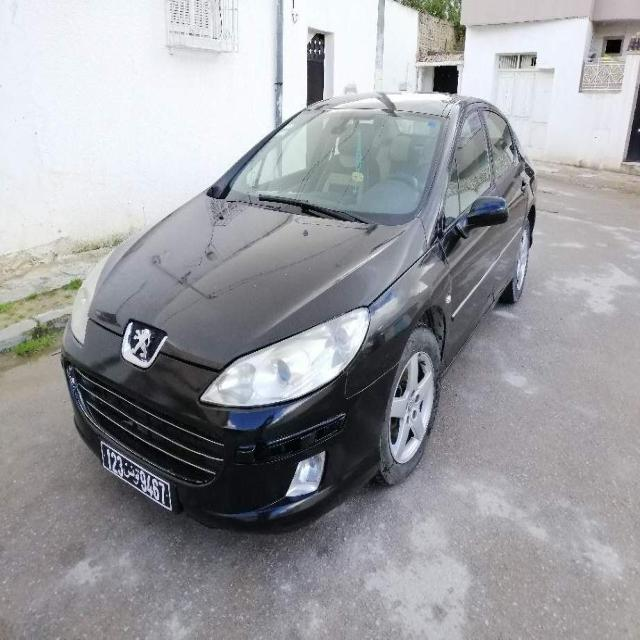LP: (99, 439, 172, 512)
